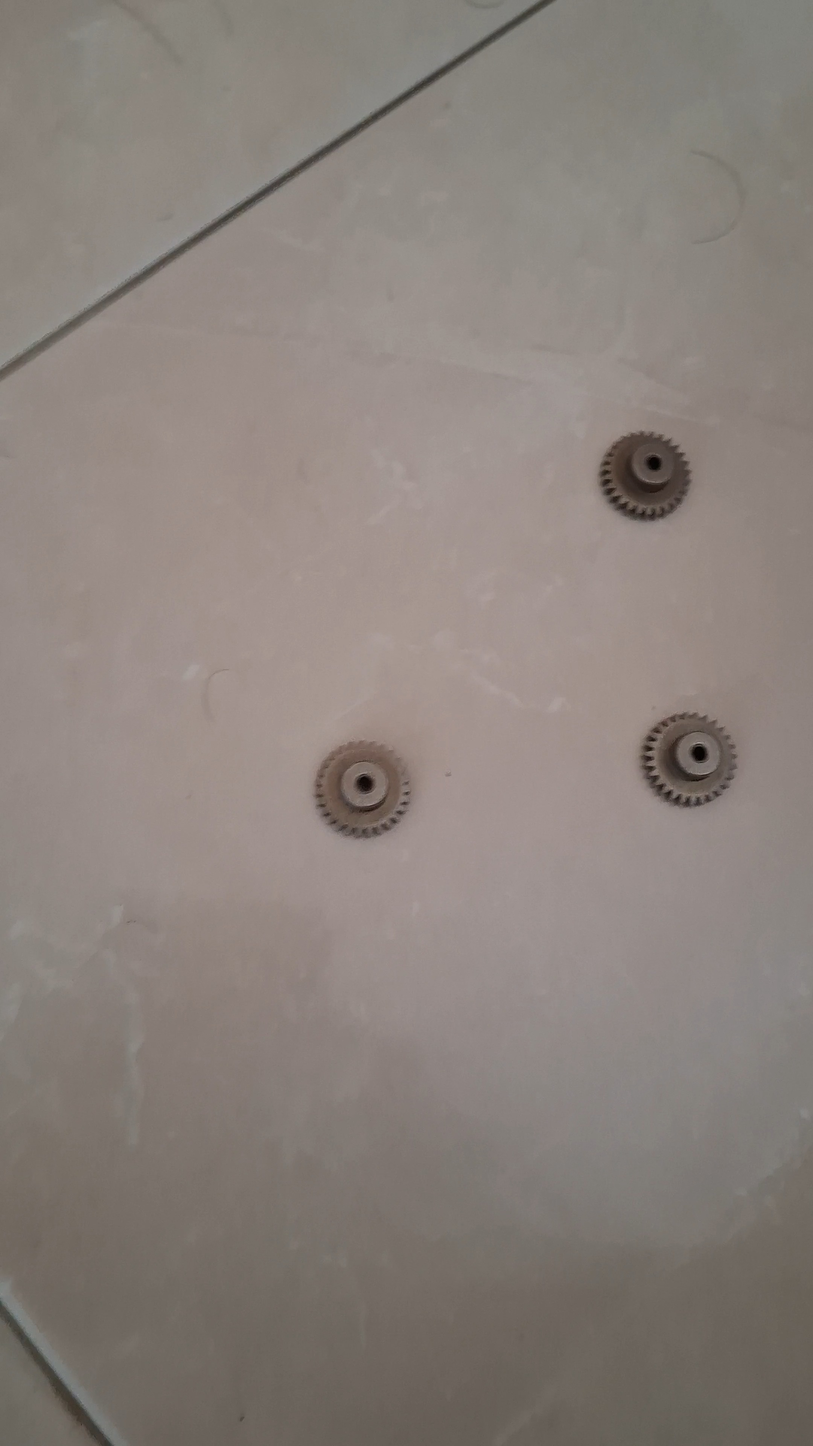spur gear: (315, 741, 410, 837), (641, 713, 736, 806), (599, 433, 690, 519)
